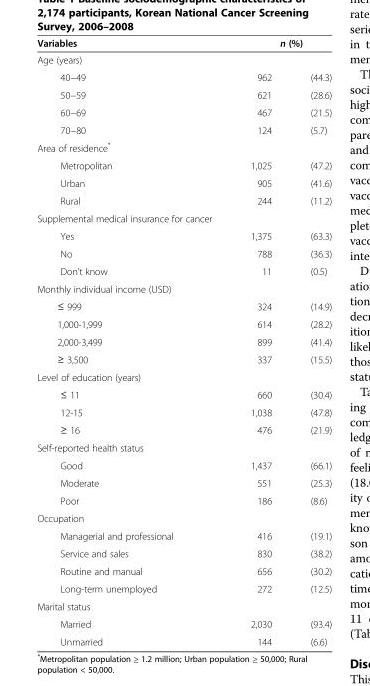table: (36, 36, 331, 647)
table column: (36, 36, 230, 647), (230, 36, 290, 647), (290, 36, 331, 647)
table column header: (36, 36, 331, 67)
table projected row header: (36, 137, 331, 156), (36, 279, 331, 297), (36, 438, 331, 456), (36, 209, 331, 226), (36, 368, 331, 385), (36, 509, 331, 526), (36, 597, 331, 614)
table row: (36, 137, 331, 156), (36, 67, 331, 85), (36, 85, 331, 103), (36, 156, 331, 174), (36, 191, 331, 209), (36, 226, 331, 244), (36, 244, 331, 262), (36, 279, 331, 297), (36, 297, 331, 315), (36, 332, 331, 350), (36, 350, 331, 368), (36, 385, 331, 403), (36, 420, 331, 438), (36, 438, 331, 456), (36, 473, 331, 491), (36, 491, 331, 509), (36, 526, 331, 544), (36, 544, 331, 562), (36, 579, 331, 597), (36, 614, 331, 632), (36, 103, 331, 120), (36, 120, 331, 137), (36, 174, 331, 191), (36, 209, 331, 226), (36, 262, 331, 279), (36, 315, 331, 332), (36, 368, 331, 385), (36, 403, 331, 420), (36, 456, 331, 473), (36, 509, 331, 526), (36, 562, 331, 579), (36, 597, 331, 614), (36, 51, 331, 67), (36, 36, 331, 51), (36, 632, 331, 647)
table spanning cell: (36, 36, 230, 67), (230, 36, 331, 51)
